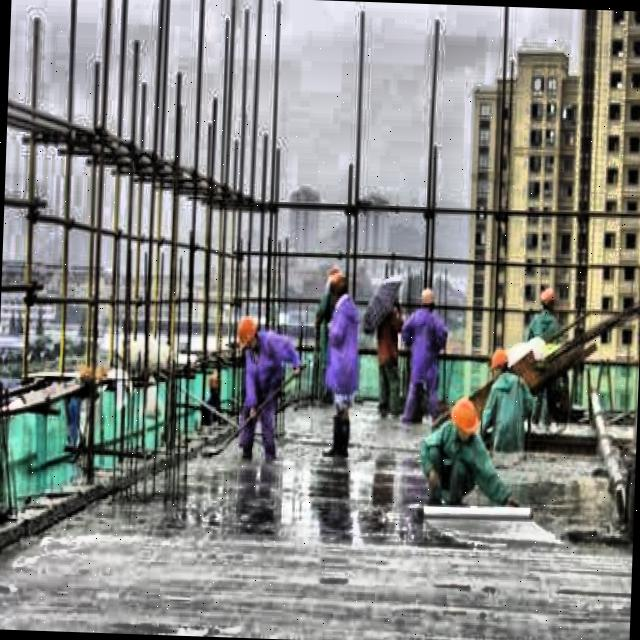helmet: (442, 394, 485, 451), (234, 306, 264, 356), (485, 344, 514, 388), (327, 268, 352, 306), (536, 282, 560, 313), (418, 285, 439, 313)
